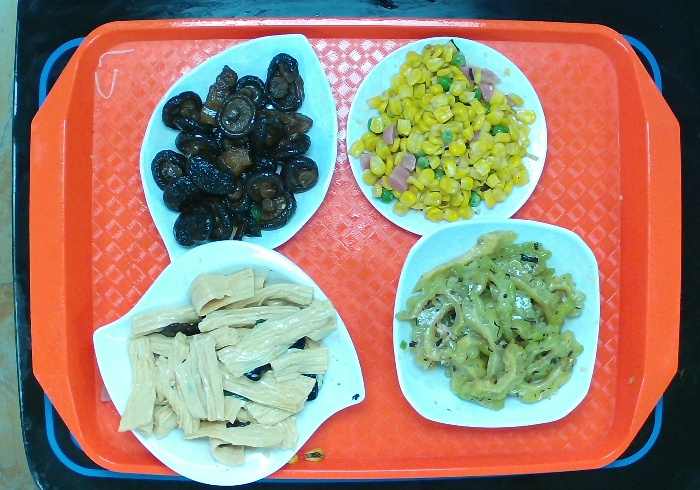RJxy-Da_Du_Pan: (137, 29, 343, 268)
RJxy-Shuang_Jiao_Pan: (89, 238, 371, 490)
RJxy-Si_Fang_Wan: (390, 214, 606, 431)
RJxy-Xiao_Yuan_Die: (341, 30, 549, 241)
